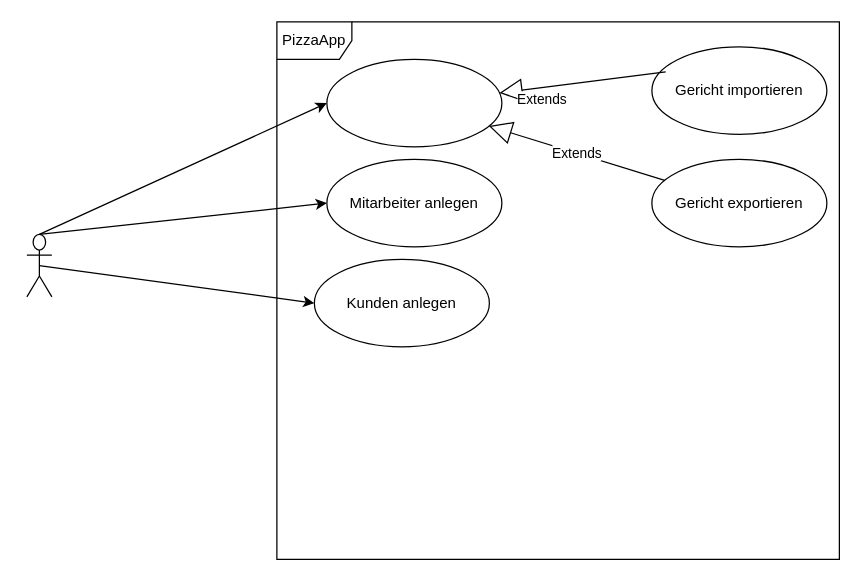
The diagram is 861 pixels wide and 581 high, and some of its shapes have lost their labels. The centre of each missing label's shape, as x and y in pixels:
"Actor" goes at pixel 39 265.
"Bestellung hinzufügen" goes at pixel 414 102.
